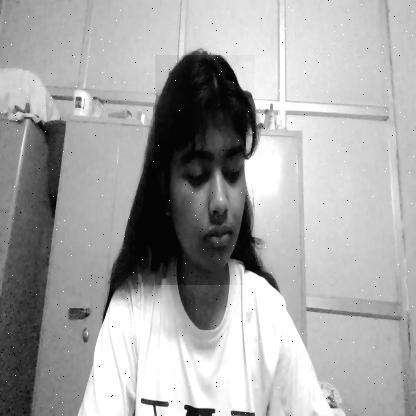Distracted: (155, 55, 255, 285)
